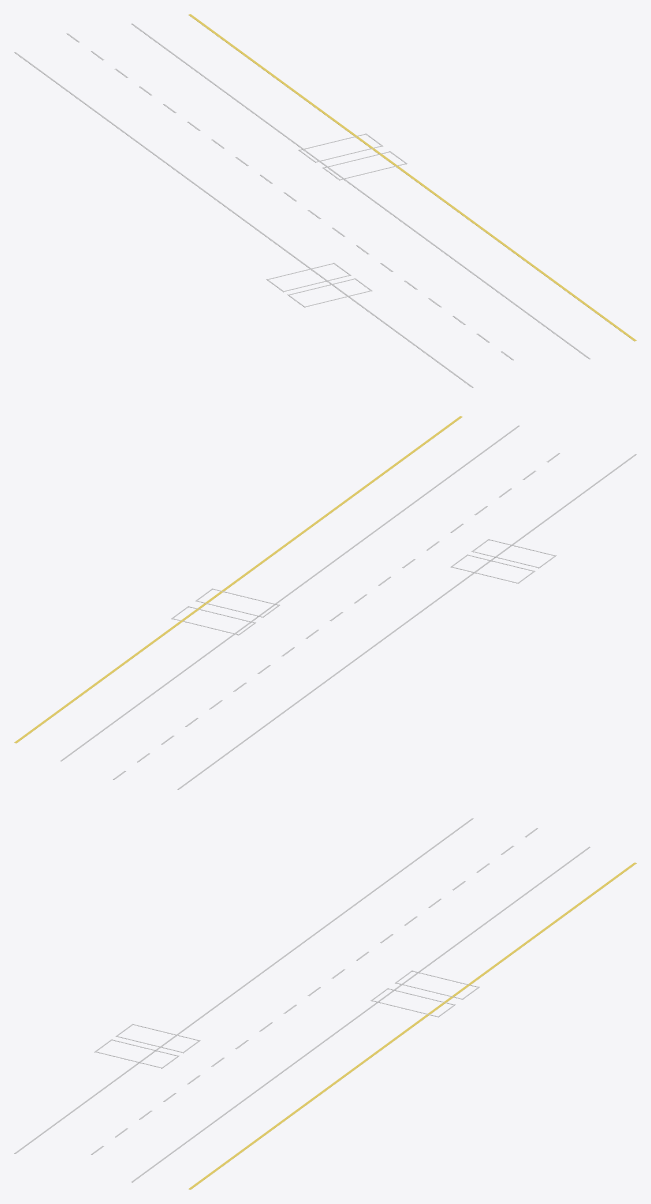
The model's file is bt-hw-markings.glb.
The picture shows the model from 3 angles, top to bottom: view 1: azimuth 30°, elevation 25°; view 2: azimuth 150°, elevation 25°; view 3: azimuth 330°, elevation 25°; orthographic projection.
Visible parts, largest first — view 1: bt-hw-markings_safety, bt-hw-markings_edge-6.6, bt-hw-markings_edge4.6; view 2: bt-hw-markings_safety, bt-hw-markings_edge-6.6, bt-hw-markings_edge4.6; view 3: bt-hw-markings_safety, bt-hw-markings_edge-6.6, bt-hw-markings_edge4.6.
Part boxes in pixels (left/top/right/bottom): bt-hw-markings_safety: left=188, top=14, right=636, bottom=341; bt-hw-markings_edge-6.6: left=14, top=52, right=473, bottom=387; bt-hw-markings_edge4.6: left=131, top=23, right=590, bottom=359; bt-hw-markings_safety: left=14, top=416, right=462, bottom=743; bt-hw-markings_edge-6.6: left=177, top=454, right=636, bottom=789; bt-hw-markings_edge4.6: left=60, top=425, right=519, bottom=761; bt-hw-markings_safety: left=188, top=862, right=636, bottom=1189; bt-hw-markings_edge-6.6: left=14, top=818, right=473, bottom=1153; bt-hw-markings_edge4.6: left=131, top=846, right=590, bottom=1182.
Size of the model in its own units: 21.42 by 0.112 by 77.
